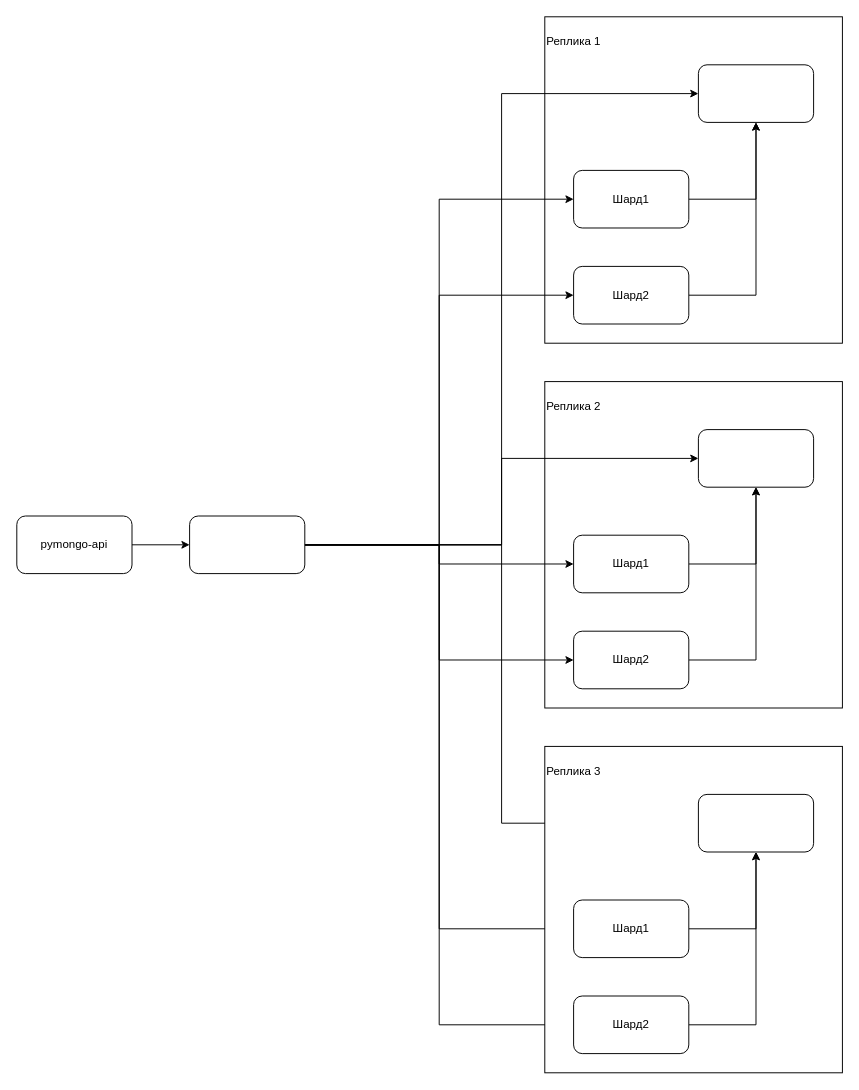
Some shapes in this 859 by 1090 pixel diagram are drawn without their labels. Each missing label, with the centre of its shape:
Конфигуратор: point (755, 93)
Конфигуратор 2: point (755, 458)
Конфигуратор 3: point (755, 822)
Роутер: point (247, 544)
